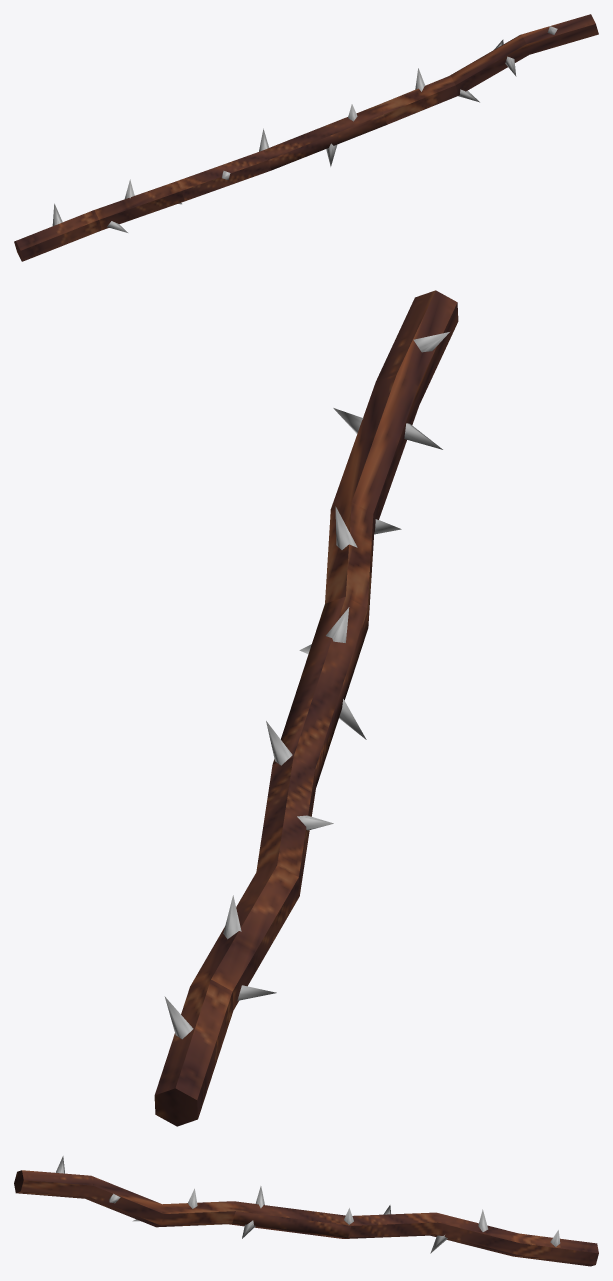
File: LargeRoot.obj
3 views of the same model, one above another, from view 1: azimuth 90°, elevation 25°; view 2: azimuth 150°, elevation 25°; view 3: azimuth 270°, elevation 25° (orthographic). The views are drawn at different scales.
Parts seen in each view (by area): view 1: LargeRoot; view 2: LargeRoot; view 3: LargeRoot.
Boxes of the visible parts, x1,y1,x2,y2 form: LargeRoot: (14, 14, 598, 261); LargeRoot: (154, 290, 458, 1126); LargeRoot: (14, 1156, 598, 1266).
Bounding box in the file's own units: 0.162 × 0.1519 × 0.4649.
